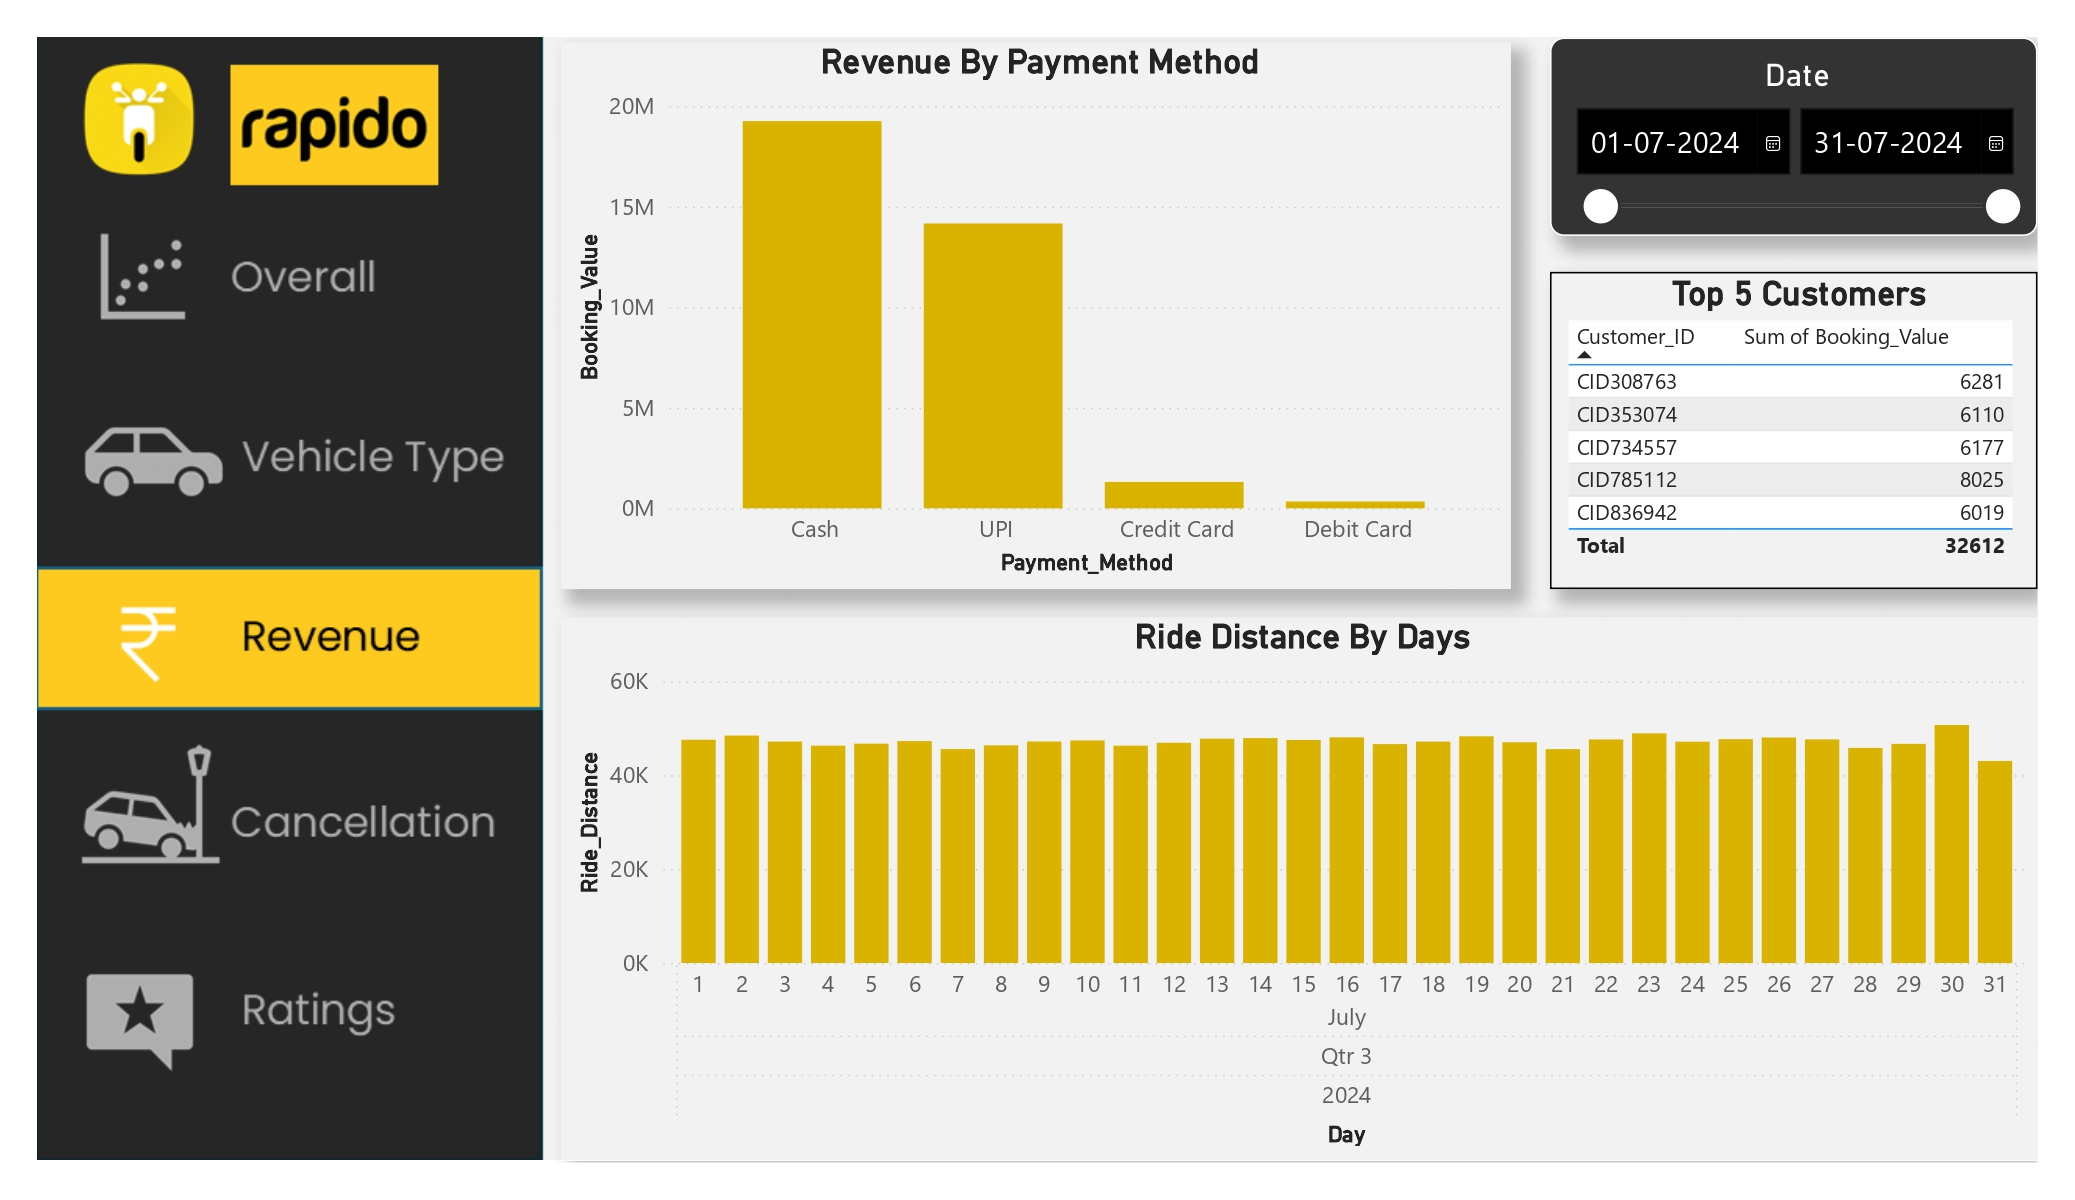

What the dashboard file says about the page in this screenshot:
{"tool":"powerbi","page":{"name":"Revenue","canvas":[1280,720],"ordinal":2},"visuals":[{"type":"columnChart","title":"Revenue By Payment Method","fields":{"Y":["Sum(July.Booking_Value)"],"Category":["July.Payment_Method"]},"box":[334.6,3,608.7,349.8],"z":0},{"type":"columnChart","title":"Ride Distance By Days","fields":{"Y":["Sum(July.Ride_Distance)"],"Category":["July.Date.Variation.Date Hierarchy.Year","July.Date.Variation.Date Hierarchy.Quarter","July.Date.Variation.Date Hierarchy.Month","July.Date.Variation.Date Hierarchy.Day"]},"box":[334.6,371,944.9,348.3],"z":1000},{"type":"slicer","title":"Date","fields":{"Values":["July.Date"]},"box":[967.6,0,311.9,127.2],"z":2000},{"type":"tableEx","title":"Top 5 Customers","fields":{"Values":["July.Customer_ID","Sum(July.Booking_Value)"]},"box":[967.6,149.9,311.9,202.9],"z":3000}]}

Visuals, with their boxes on the page's 1280x720 design canvas (x1, y1, x2, y2). These are canvas units, not pixel positions in the 2075x1200 screenshot, which may show the page scaled, cropped or inside an application window:
"Revenue By Payment Method" columnChart: [335,3,943,353]
"Ride Distance By Days" columnChart: [335,371,1280,719]
"Date" slicer: [968,0,1280,127]
"Top 5 Customers" tableEx: [968,150,1280,353]
